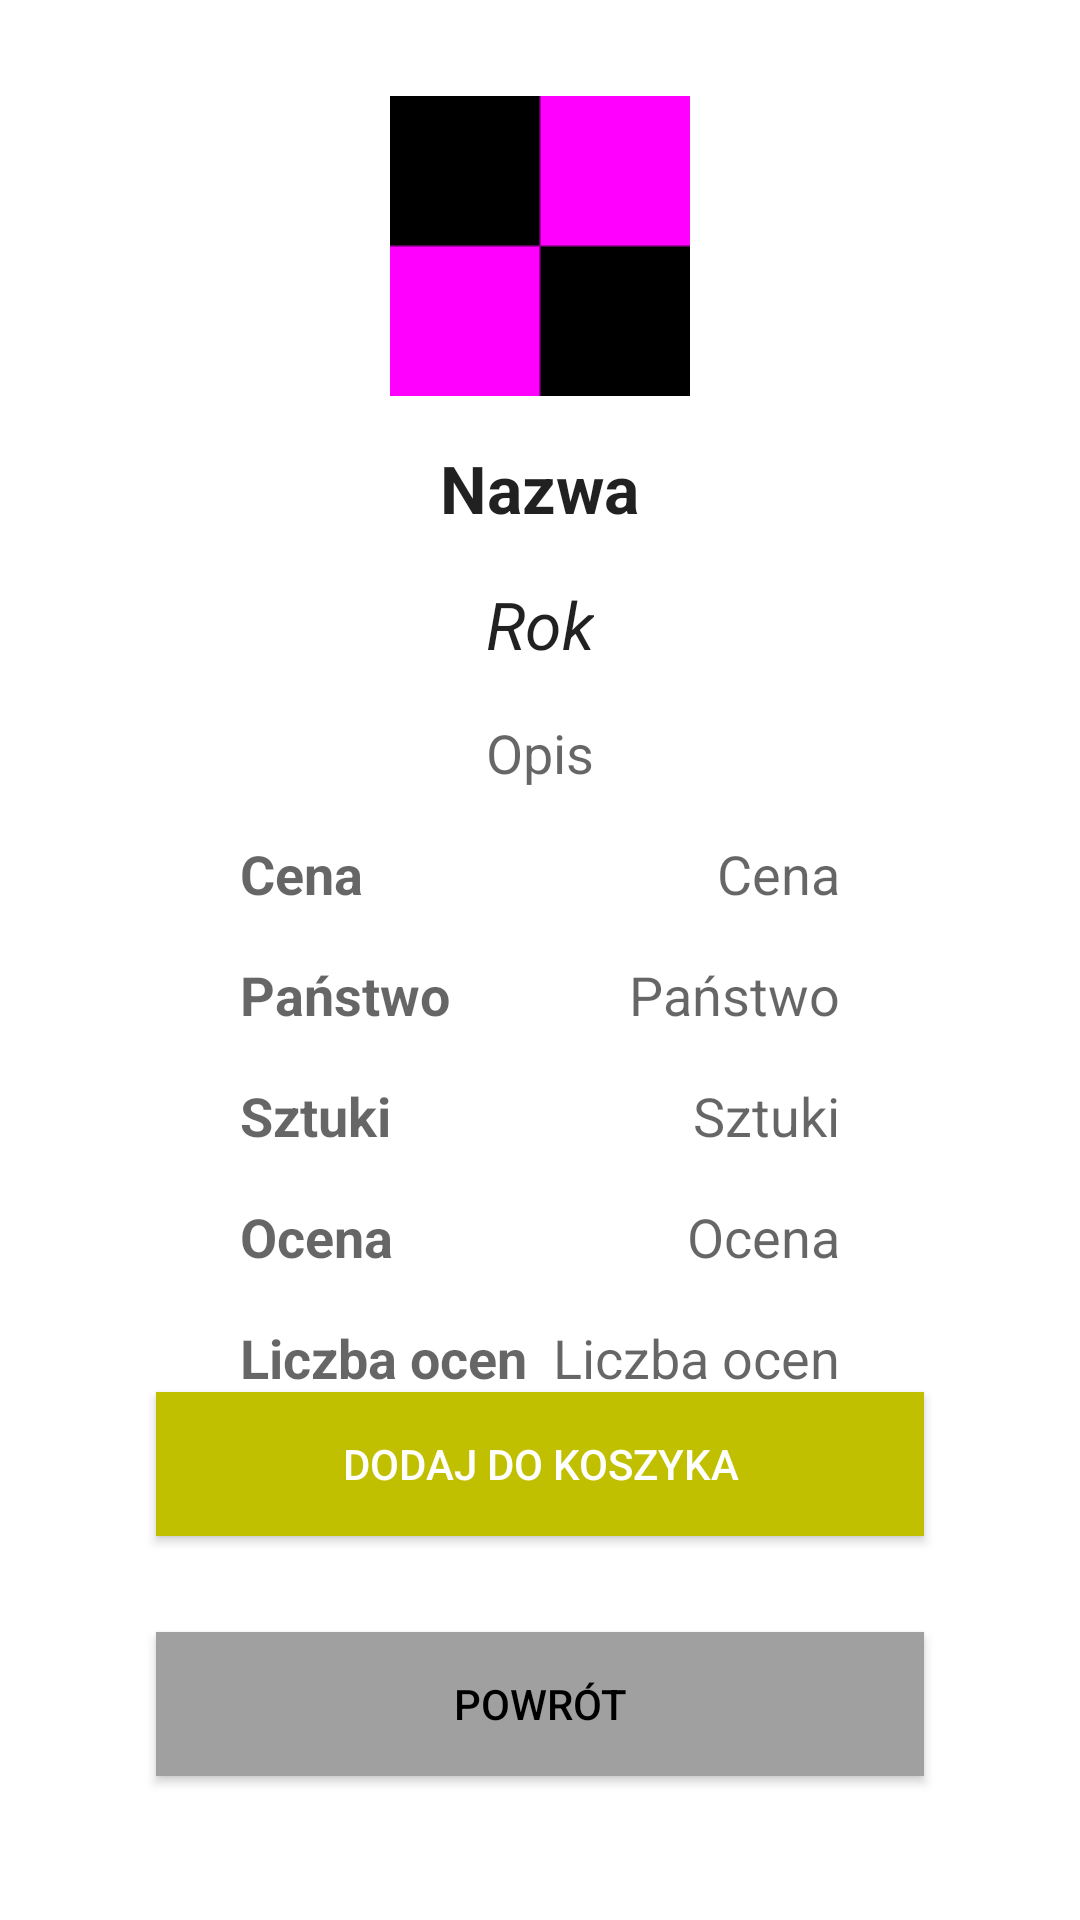

Named icons in this screenshot (1080px x 1920px) and their centers, [x,y]:
missing texture: [540,246]
